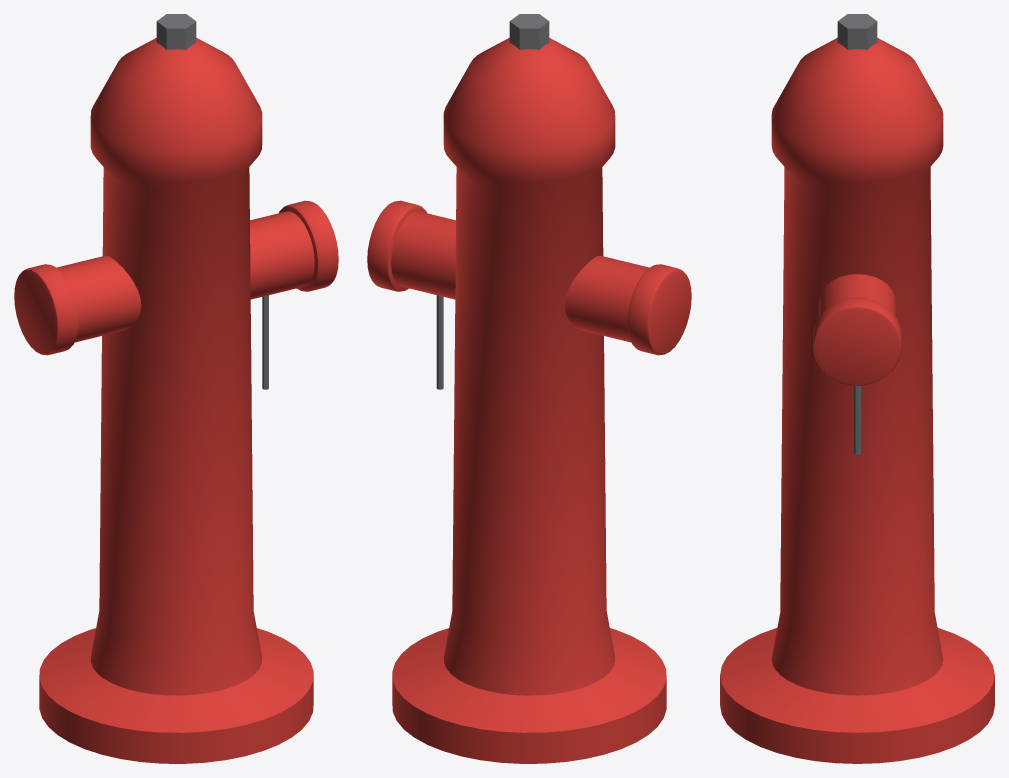
The model's file is HID-INC-003_anim.glb.
3 views of the same model, side by side, from view 1: azimuth 30°, elevation 25°; view 2: azimuth 150°, elevation 25°; view 3: azimuth 270°, elevation 25° (orthographic).
Parts seen in each view (by area): view 1: HID-INC-003_anim0; view 2: HID-INC-003_anim0; view 3: HID-INC-003_anim0.
Part boxes in pixels (left/top/right/bottom): HID-INC-003_anim0: left=14, top=14, right=338, bottom=763; HID-INC-003_anim0: left=367, top=14, right=691, bottom=763; HID-INC-003_anim0: left=720, top=14, right=994, bottom=763.
Bounding box in the file's own units: 0.38 × 0.88 × 0.32.
